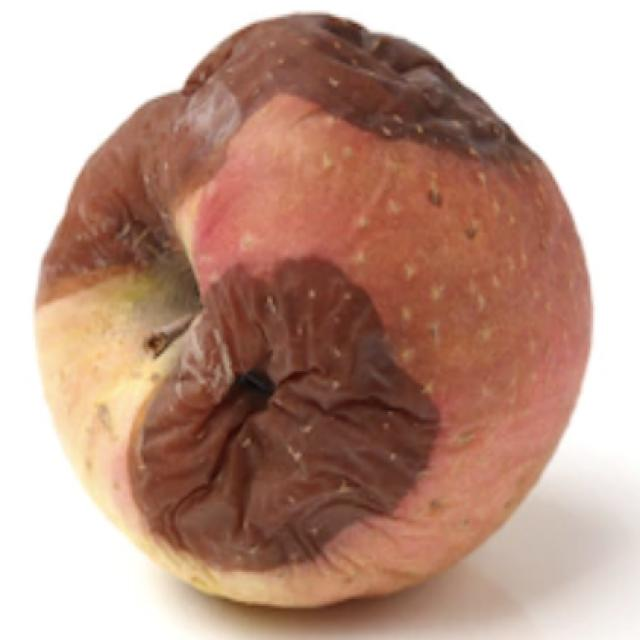rotten_apple: (38, 13, 596, 612)
